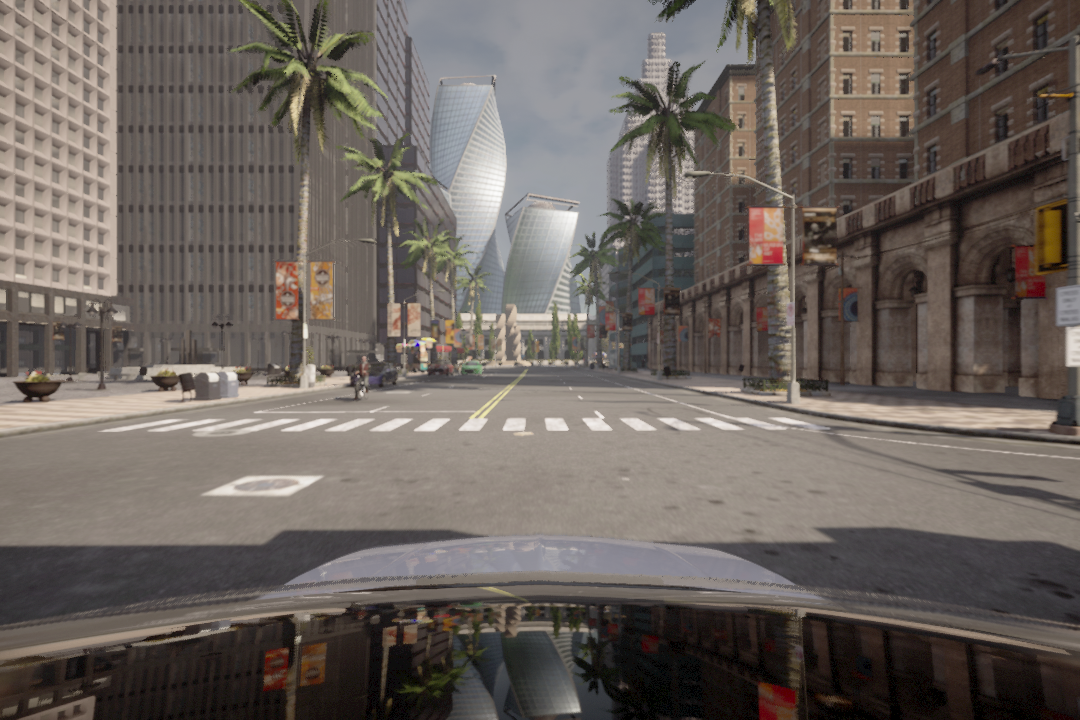walkside: (91, 411, 827, 439)
